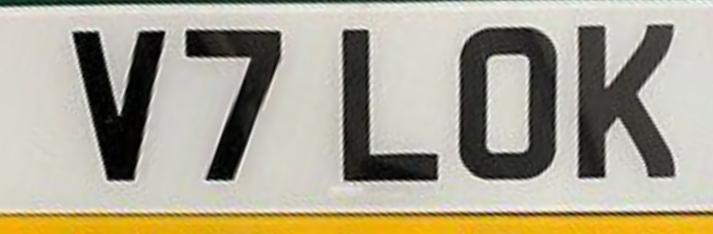7: (179, 17, 292, 194)
K: (574, 8, 683, 193)
L: (332, 18, 451, 190)
O: (454, 19, 566, 187)
V: (62, 20, 174, 193)
